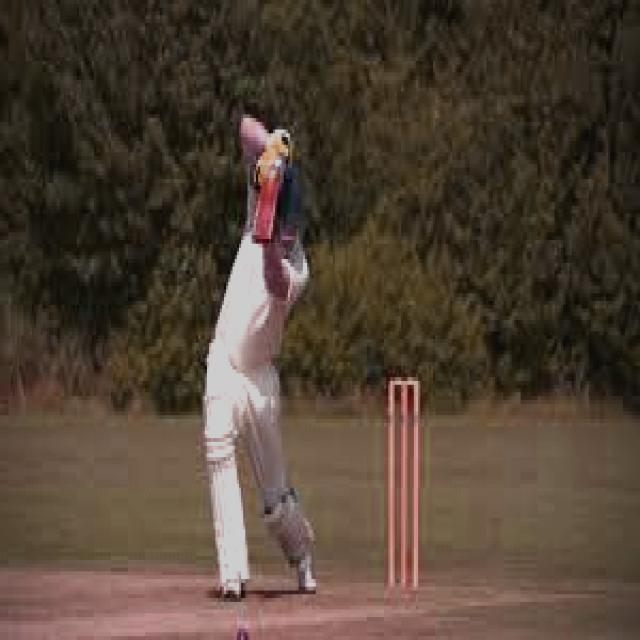bat: (250, 153, 275, 250)
toe: (250, 233, 275, 245)
